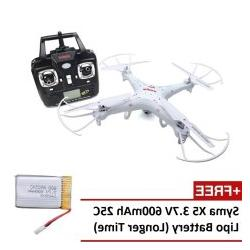drone: (57, 50, 236, 164)
